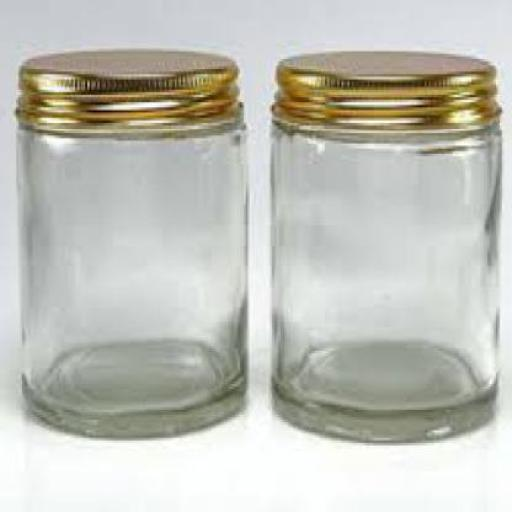glass: (266, 118, 498, 438), (14, 118, 246, 435)
metal: (268, 46, 500, 123), (14, 49, 238, 125)
